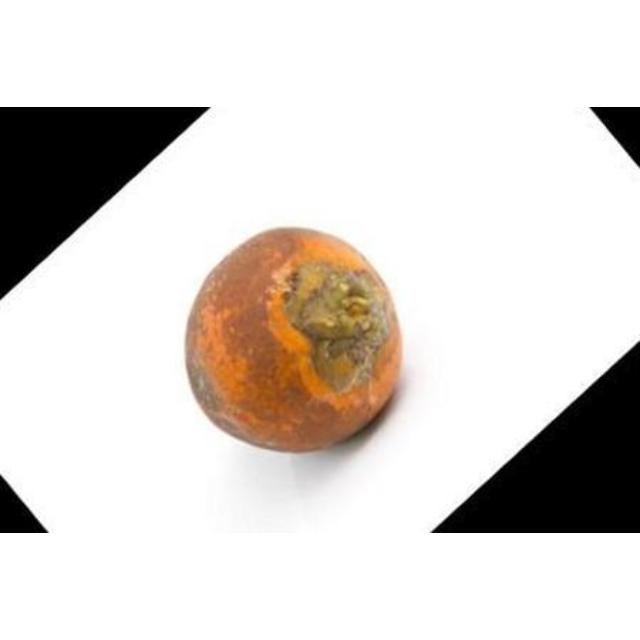good: (183, 228, 405, 455)
